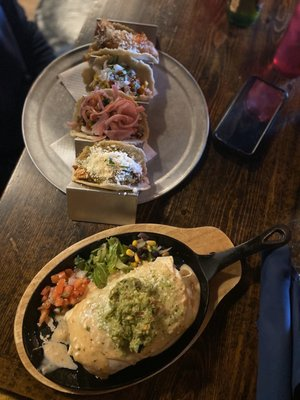sushi: (10, 223, 286, 399)
